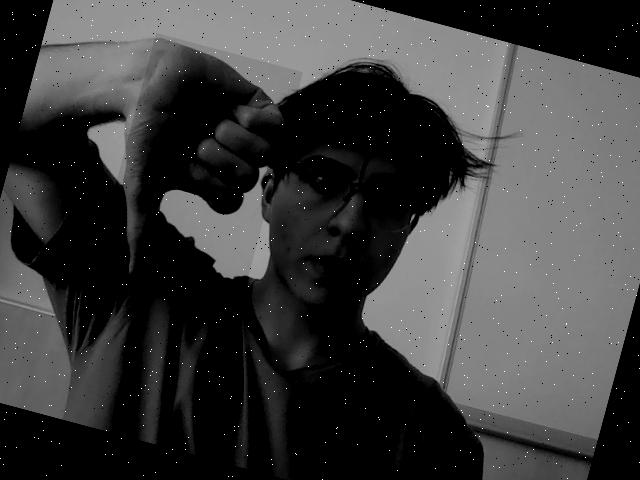bad: (92, 32, 303, 312)
